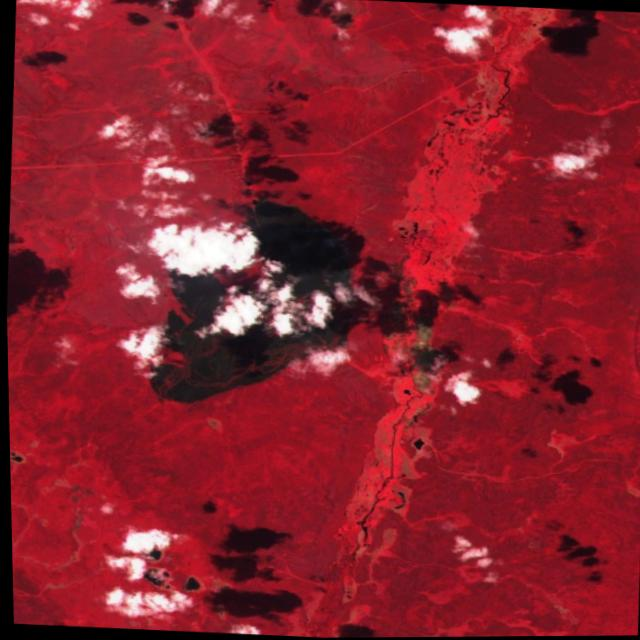fire: (309, 212, 373, 334), (107, 554, 173, 593)
